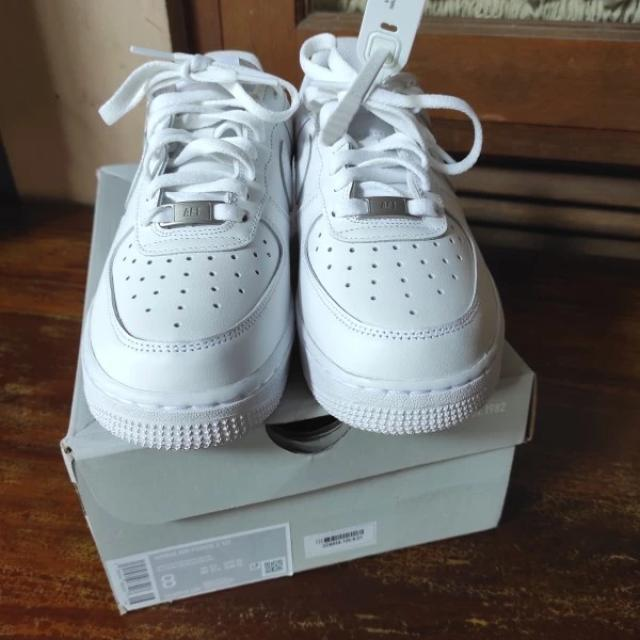nike original air force: (76, 43, 302, 454), (295, 30, 509, 434)
